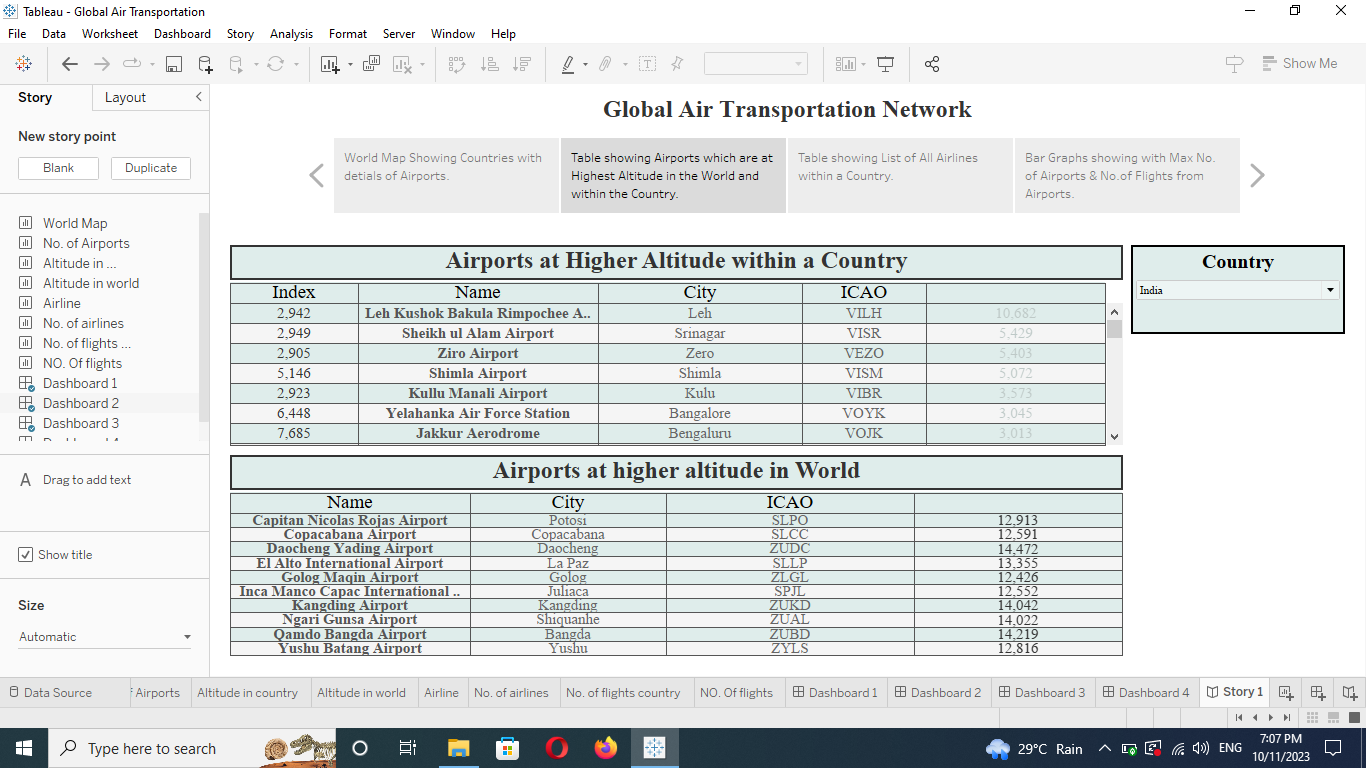

This screenshot's page, from the dashboard's own definition file:
{"tool":"tableau","page":{"name":"Dashboard 2","canvas":[1000,1000],"units":"permille","ordinal":1},"visuals":[{"type":"worksheet","title":"Altitude in country","mark":"Automatic","rows":["index (routes.csv)","Name (airports.csv)","City","ICAO (airports.csv)"],"box":[6.9,13.5,793.9,486.5]},{"type":"filter","title":"Altitude in country","param":"[federated.0mnjfow1o9cxgx1b9vua4074vz4p].[none:Country (airports.csv):nk]","box":[800.9,13.5,192.2,163.8]},{"type":"worksheet","title":"Altitude in world","mark":"Automatic","rows":["Name (airports.csv)","City","ICAO (airports.csv)"],"box":[6.9,500,793.9,486.5]}]}

Visuals, with their boxes on the dashboard's canvas, which has no fixed pixel size, in thousandths of its width and height (x1, y1, x2, y2). These are canvas units, not pixel positions in the 1366x768 screenshot, which may show the page scaled, cropped or inside an application window:
"Altitude in country" worksheet: Rect(7, 14, 801, 500)
"Altitude in country" filter: Rect(801, 14, 993, 177)
"Altitude in world" worksheet: Rect(7, 500, 801, 986)
